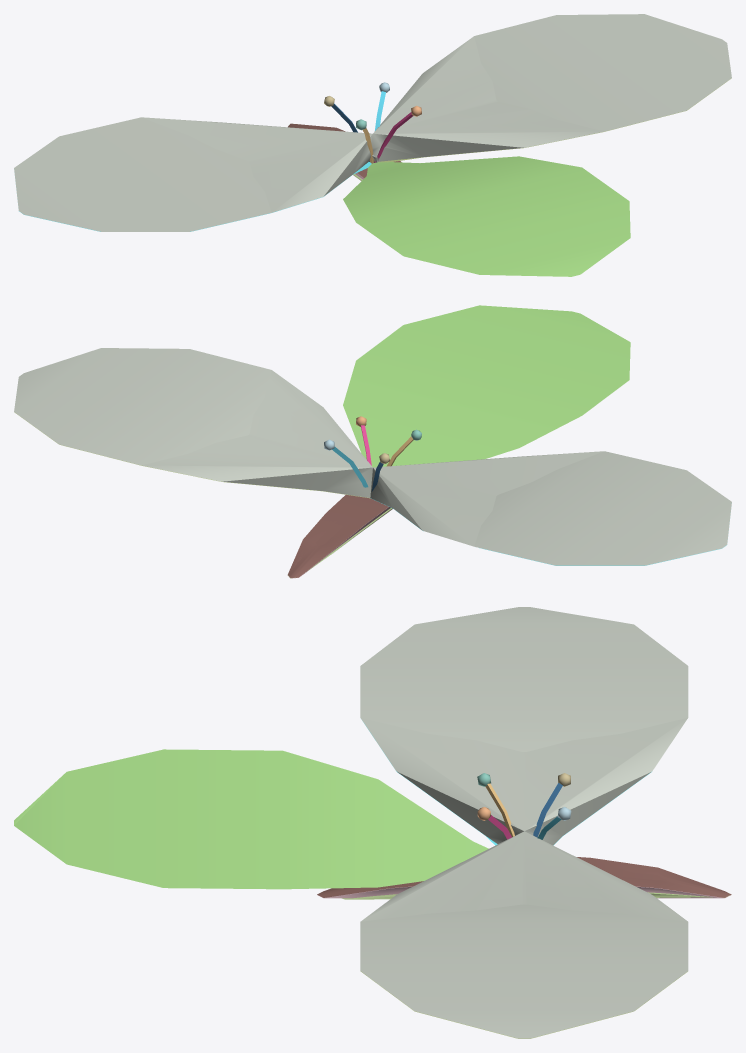
3 renders of one model, top to bottom at view 1: azimuth 30°, elevation 25°; view 2: azimuth 150°, elevation 25°; view 3: azimuth 270°, elevation 25°, orthographic. The views are drawn at different scales.
Visible parts, largest first — view 1: split_parent_9, Flower_Material.003_0.023; view 2: split_parent_9, Flower_Material.003_0.023, split_parent_15; view 3: split_parent_9, Flower_Material.003_0.023, split_parent_15, Clip_Material.003_0.003.
Boxes of the visible parts, <box> form: split_parent_9: <box>14,14,731,231</box>; Flower_Material.003_0.023: <box>343,156,630,276</box>; split_parent_9: <box>14,348,731,565</box>; Flower_Material.003_0.023: <box>343,305,630,467</box>; split_parent_15: <box>288,495,388,578</box>; split_parent_9: <box>360,607,688,1038</box>; Flower_Material.003_0.023: <box>14,749,488,889</box>; split_parent_15: <box>317,857,731,897</box>; Clip_Material.003_0.003: <box>317,886,729,898</box>.
Bounding box in the file's own units: 1 × 0.1152 × 0.7034.
